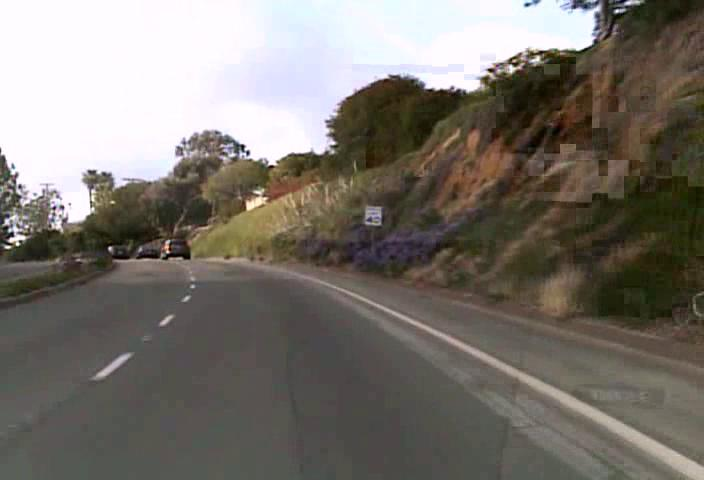speedLimit40: (363, 204, 383, 226)
